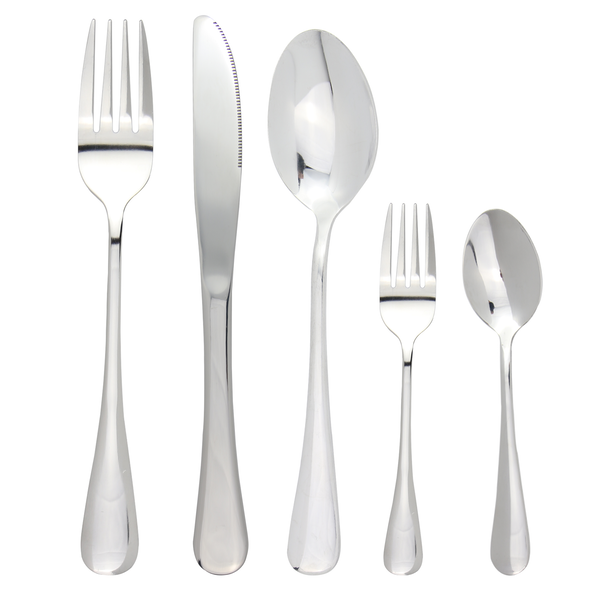Lyzka: (266, 25, 381, 220), (461, 208, 545, 333)
Noz: (187, 13, 246, 286)
Widelec: (71, 17, 156, 209), (376, 201, 446, 342)
